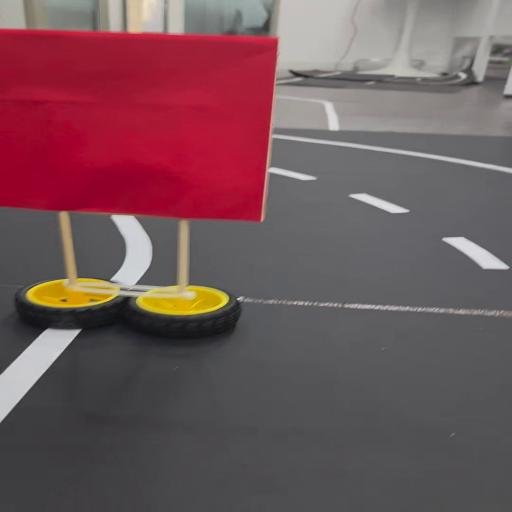Sign_A: (0, 28, 283, 362)
